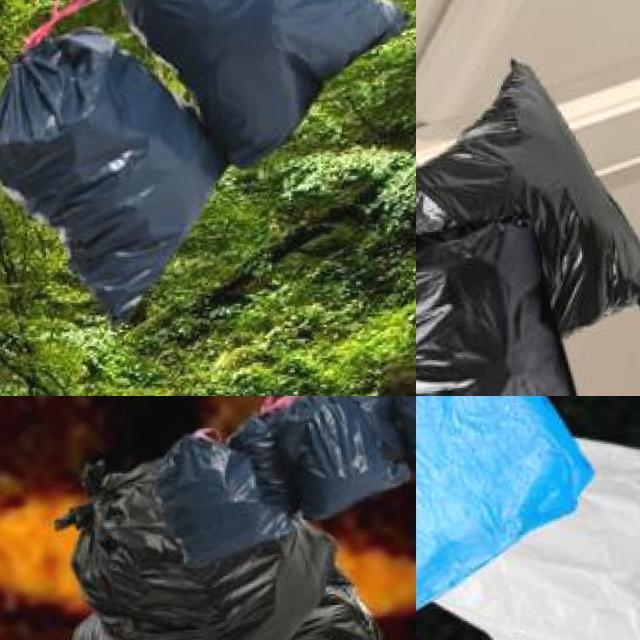waste: (416, 58, 640, 352), (0, 19, 233, 298), (69, 424, 359, 640), (416, 396, 600, 640), (122, 0, 408, 156), (416, 231, 589, 396), (242, 396, 416, 514)
